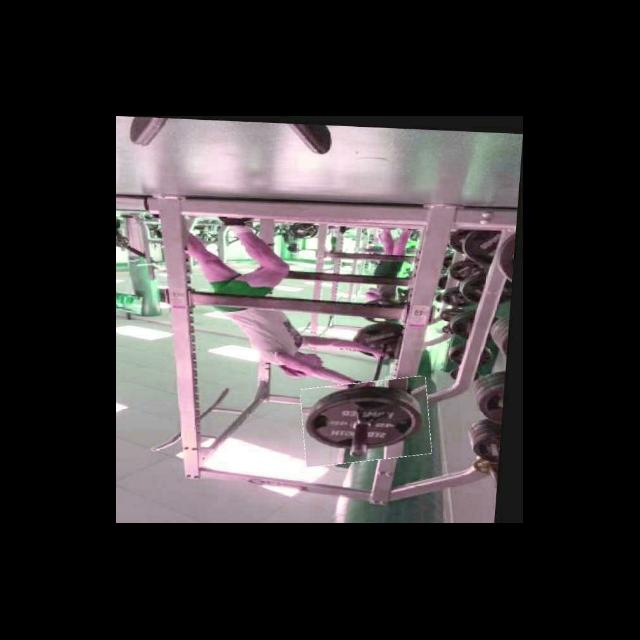barbell: (303, 373, 438, 465)
